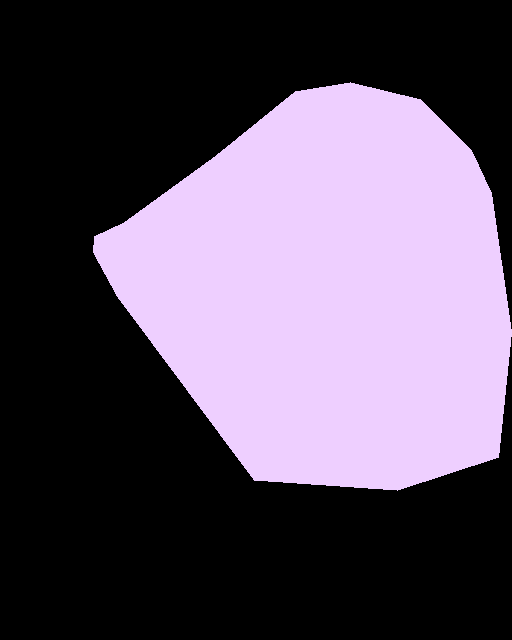Train: (93, 82, 512, 491)
